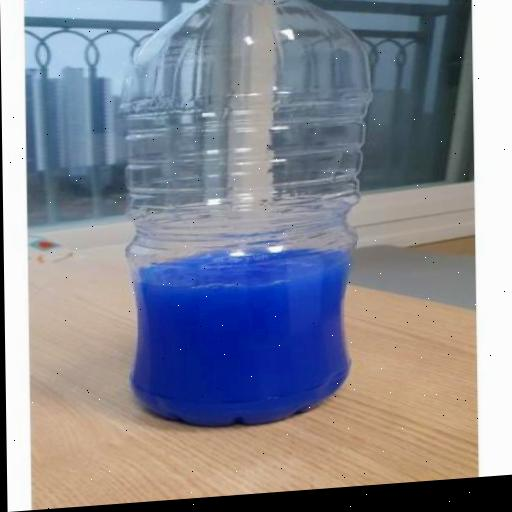ba: (104, 0, 385, 448)
